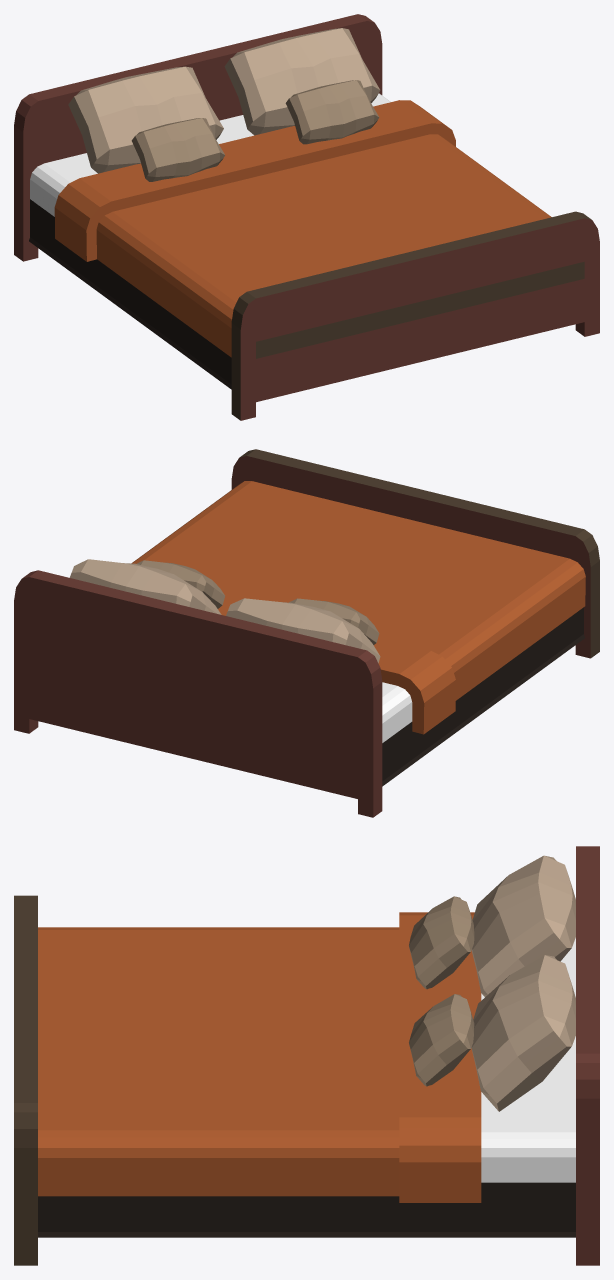
The model's file is Prop_Bed_03.fbx.
3 views of the same model, one above another, from view 1: azimuth 30°, elevation 25°; view 2: azimuth 150°, elevation 25°; view 3: azimuth 270°, elevation 25° (orthographic). The views are drawn at different scales.
Visible parts, largest first — view 1: Prop_Bed_03; view 2: Prop_Bed_03; view 3: Prop_Bed_03.
Part boxes in pixels (x1,y1,x2,y2): Prop_Bed_03: [14, 14, 599, 420]; Prop_Bed_03: [14, 449, 599, 817]; Prop_Bed_03: [14, 846, 599, 1265].
Bounding box in the file's own units: 214 × 94.75 × 227.
